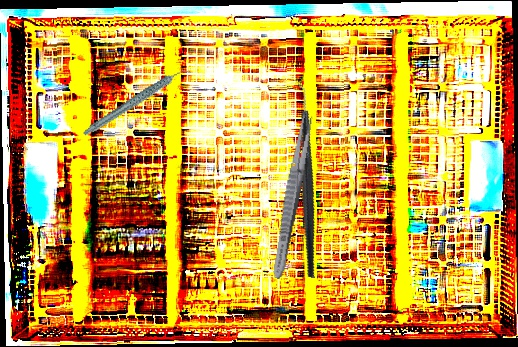Chopper: (236, 79, 371, 279)
Dressing Forceps: (269, 108, 316, 281)
Handpiece: (74, 67, 200, 137)
